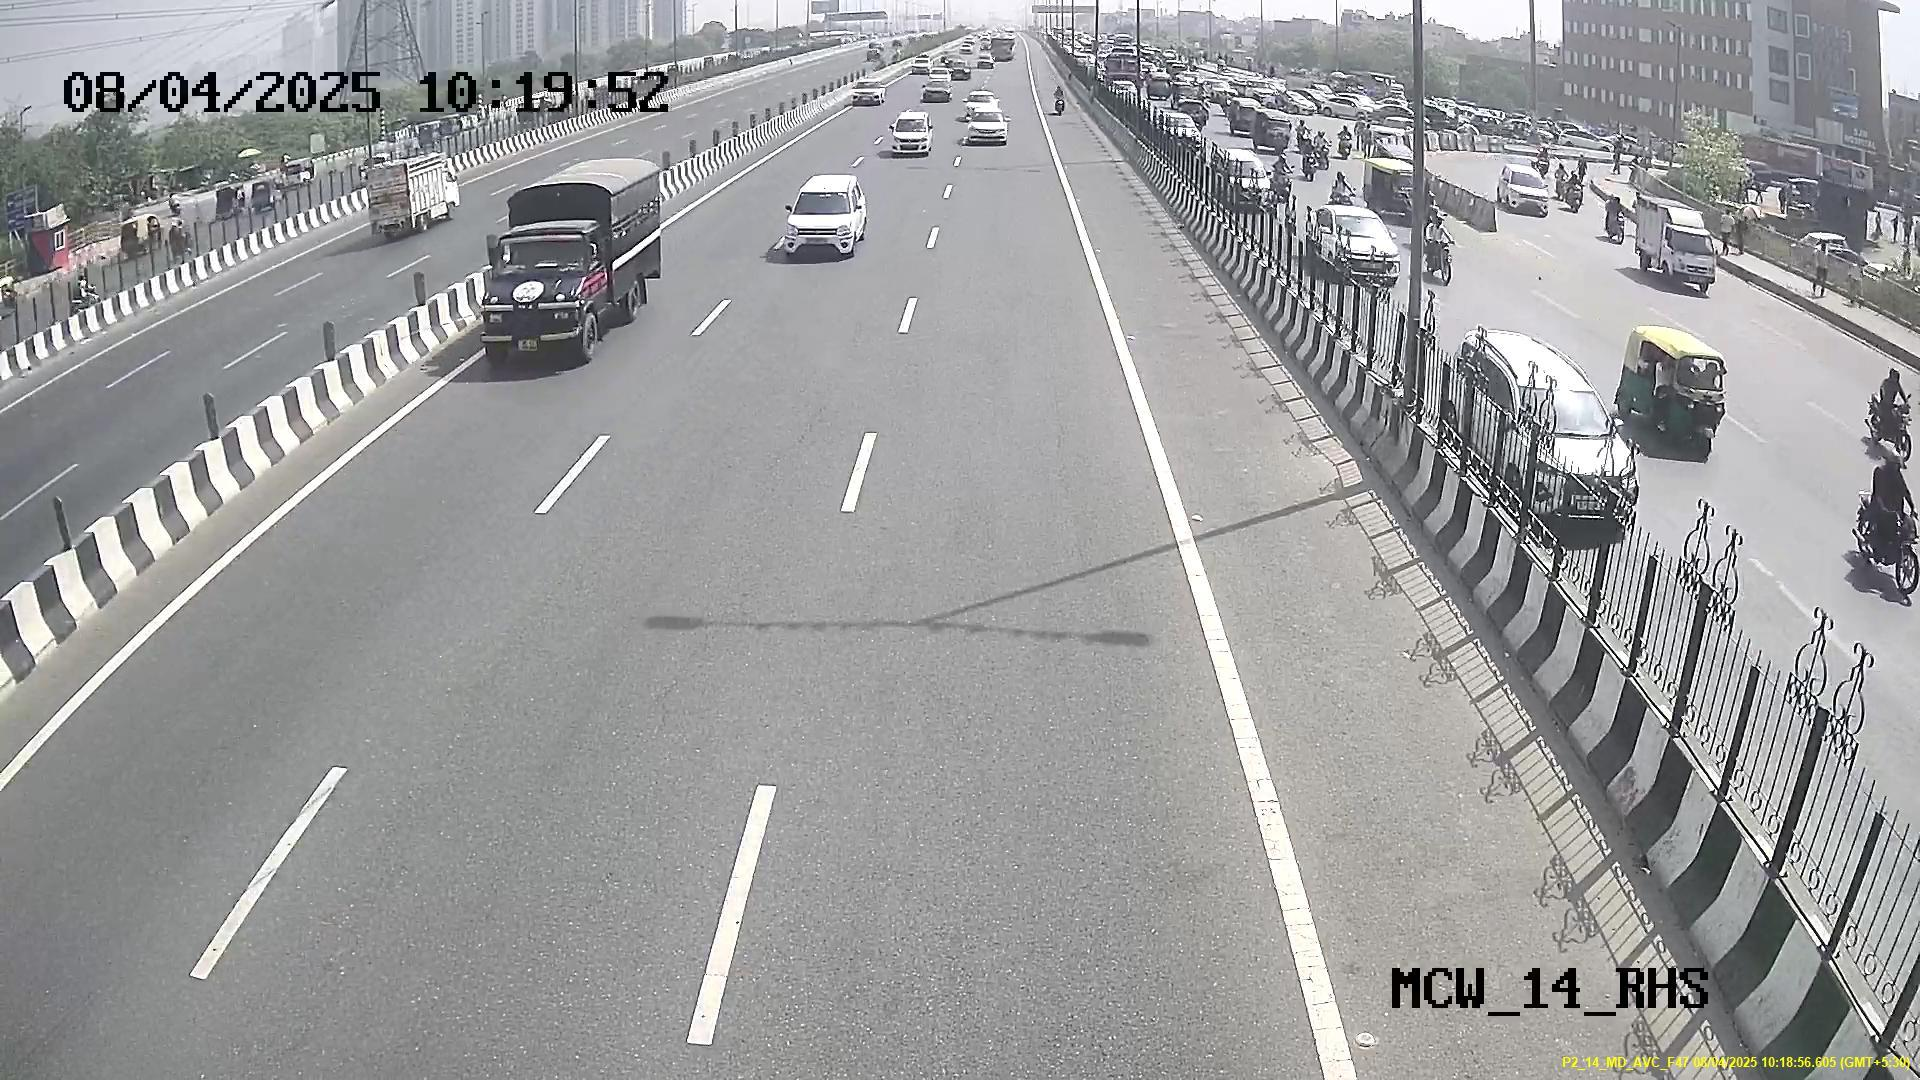car: (785, 169, 873, 257)
lcv: (481, 179, 645, 365)
